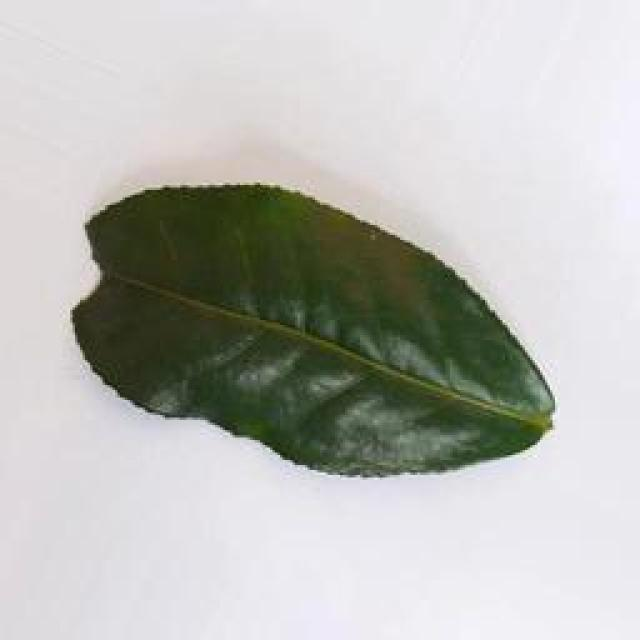Healthy: (64, 170, 572, 480)
